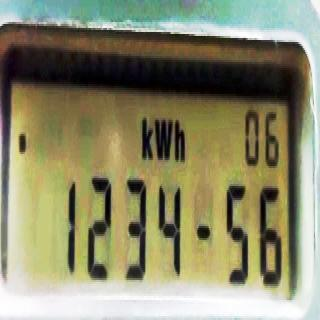-: (194, 214, 213, 250), (18, 127, 27, 159)
0: (244, 100, 260, 174)
1: (65, 177, 78, 279)
2: (85, 167, 113, 290)
3: (122, 172, 150, 293)
4: (157, 181, 184, 286)
5: (224, 174, 252, 294)
6: (258, 178, 283, 293), (264, 100, 279, 173)
